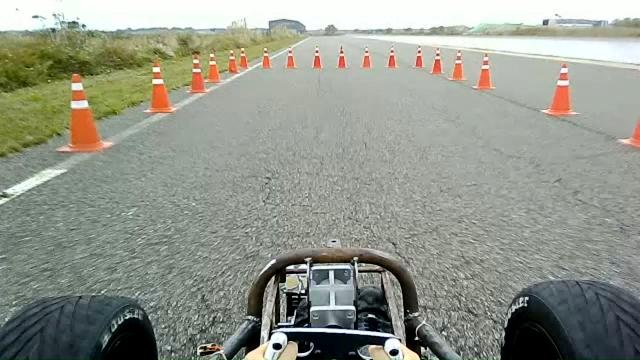red cone: (55, 72, 113, 153), (540, 63, 580, 116), (140, 61, 174, 114), (186, 53, 208, 93), (472, 52, 495, 90), (448, 49, 467, 81), (204, 49, 222, 82), (429, 47, 444, 74), (284, 46, 298, 69), (311, 44, 323, 69), (227, 49, 239, 73), (336, 45, 348, 69), (386, 44, 398, 68), (260, 47, 272, 69), (360, 46, 372, 68), (414, 45, 424, 68), (239, 47, 249, 68)
